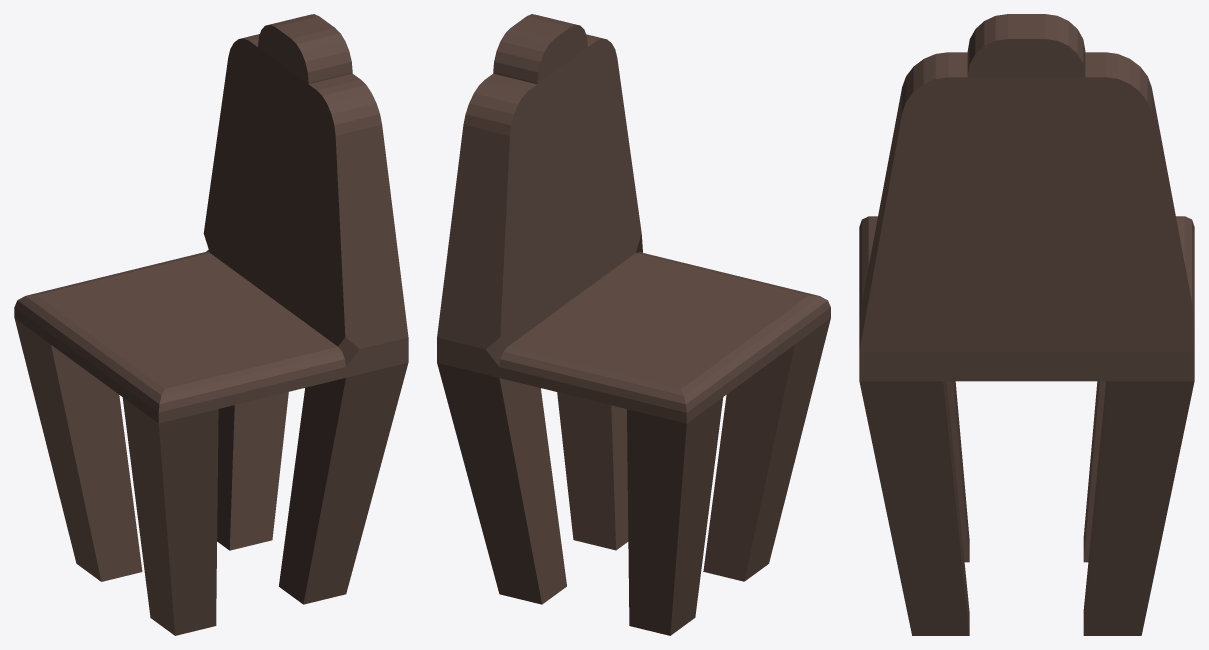
The model's file is Chair.fbx.
3 renders of one model, left to right at view 1: azimuth 30°, elevation 25°; view 2: azimuth 150°, elevation 25°; view 3: azimuth 270°, elevation 25°, orthographic. The views are drawn at different scales.
Visible parts, largest first — view 1: Cube; view 2: Cube; view 3: Cube.
Boxes of the visible parts, box(x1,y1,x2,y2) form: Cube: box(14, 14, 408, 635); Cube: box(437, 14, 830, 635); Cube: box(859, 14, 1194, 635).
Size of the model in its own units: 345 by 698 by 345.
